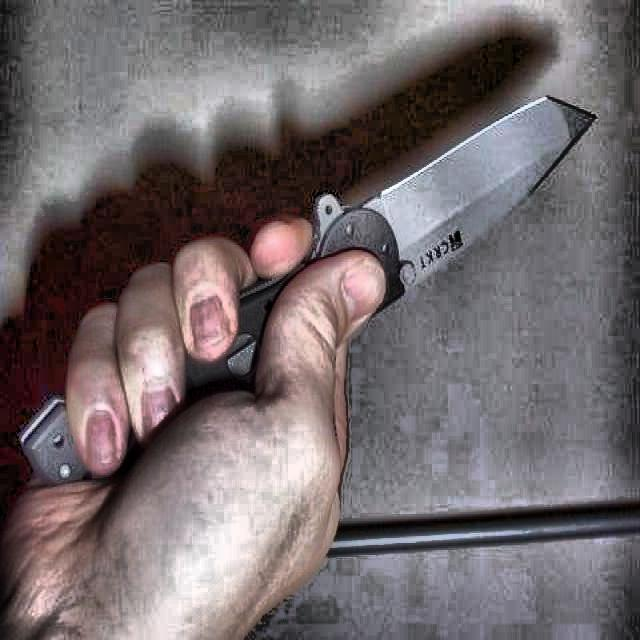knife: (21, 96, 594, 485)
